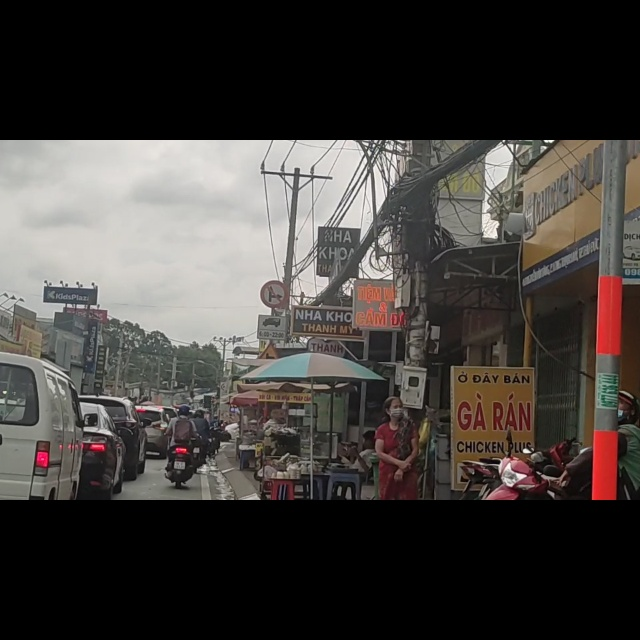bien_cam: (260, 252, 289, 303), (257, 314, 289, 356), (254, 366, 286, 393)
